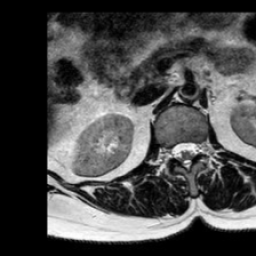CCS_normal: (181, 130, 190, 176)
LFS_normal: (198, 128, 206, 164)
LLS_normal: (190, 130, 198, 165)
RFS_normal: (163, 135, 173, 170)
RLS_normal: (171, 133, 181, 166)
